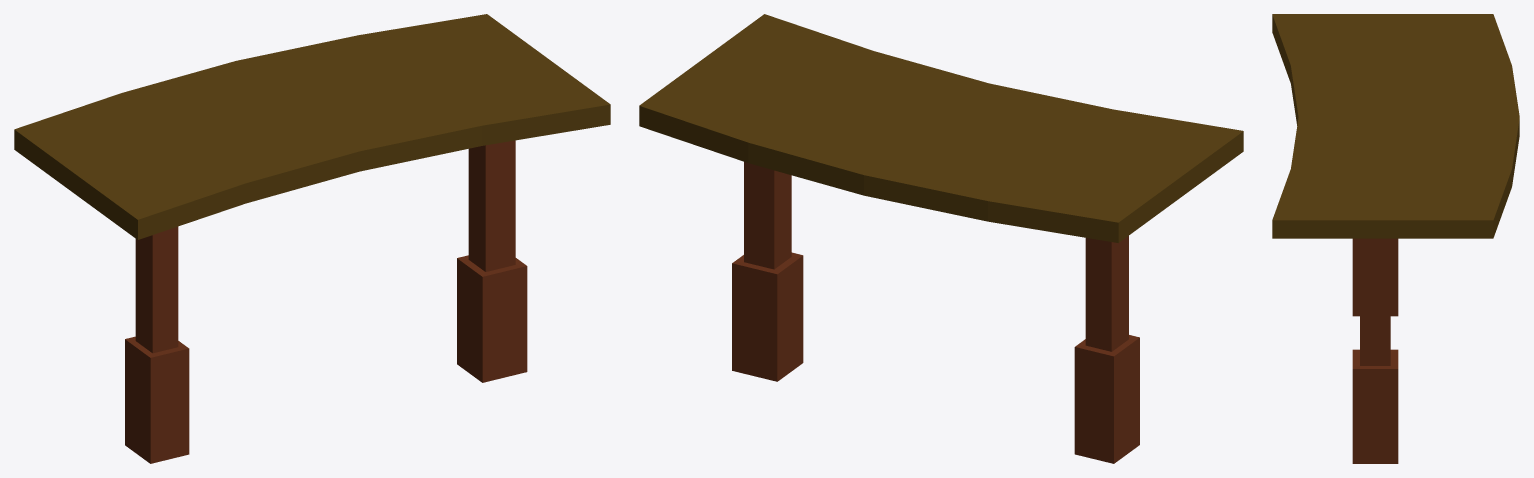
Rendered from Entrance_Level_1.fbx.
3 renders of one model, left to right at view 1: azimuth 30°, elevation 25°; view 2: azimuth 150°, elevation 25°; view 3: azimuth 270°, elevation 25°, orthographic. The views are drawn at different scales.
Visible parts, largest first — view 1: Ingang.001; view 2: Ingang.001; view 3: Ingang.001.
Part boxes in pixels (x1,y1,x2,y2): Ingang.001: [14, 14, 610, 463]; Ingang.001: [639, 14, 1243, 463]; Ingang.001: [1272, 14, 1519, 463].
Bounding box in the file's own units: 1609 × 946 × 816.
